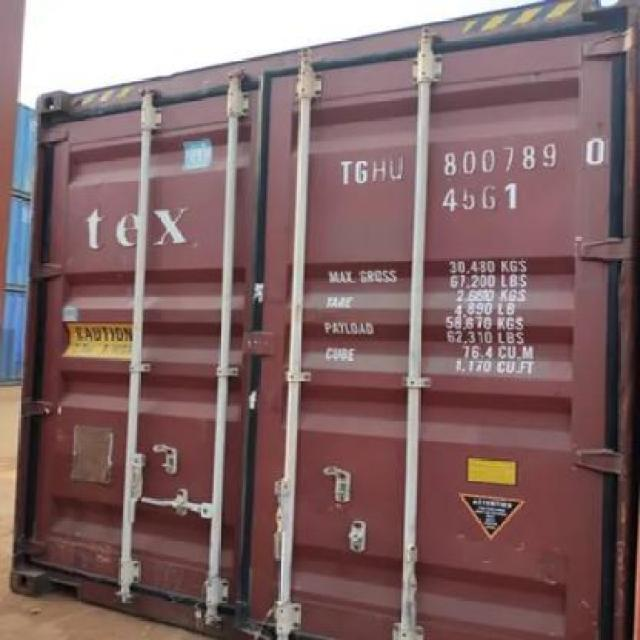ISO: (442, 186, 522, 208)
container_number: (332, 134, 602, 184)
